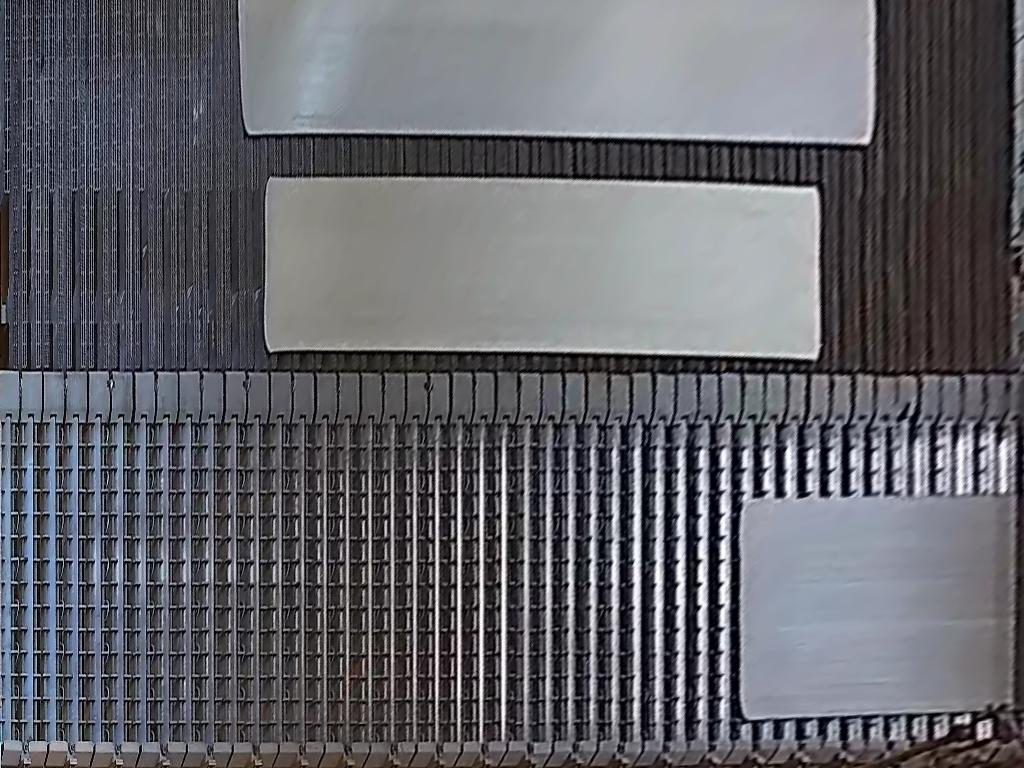steel: (260, 176, 822, 361), (237, 1, 876, 147), (736, 494, 1024, 723)
